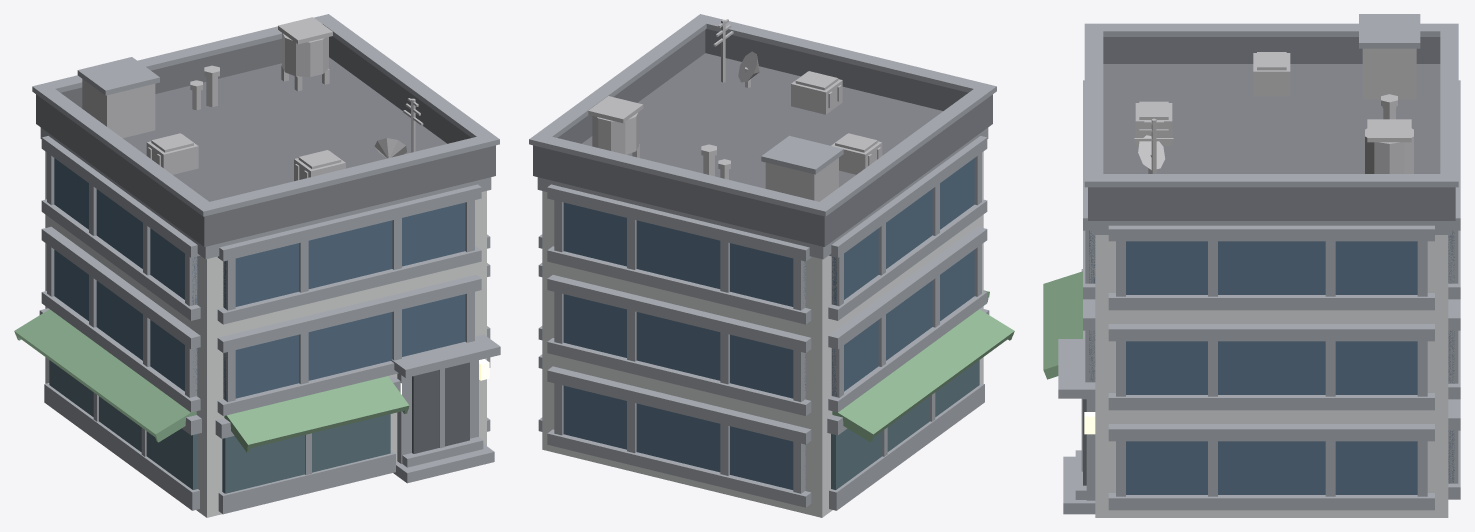
Rendered from bld_2_1.glb.
3 views of the same model, side by side, from view 1: azimuth 30°, elevation 25°; view 2: azimuth 150°, elevation 25°; view 3: azimuth 270°, elevation 25° (orthographic). The views are drawn at different scales.
Visible parts, largest first — view 1: trim, rf, win, awn, w, shop, ac, door; view 2: trim, win, rf, w, ac, awn, shop; view 3: trim, rf, win, w, ac, awn.
Boxes of the visible parts, x1,y1,x2,y2 form: trim: (32, 14, 500, 514); rf: (36, 36, 495, 246); win: (54, 158, 465, 400); awn: (14, 309, 409, 452); w: (45, 151, 486, 517); shop: (49, 360, 390, 493); ac: (82, 17, 423, 181); door: (412, 362, 469, 453); trim: (529, 14, 996, 510); win: (563, 158, 974, 489); rf: (533, 29, 992, 246); w: (542, 151, 983, 517); ac: (588, 19, 882, 201); awn: (832, 290, 1014, 442); shop: (831, 360, 979, 489); trim: (1058, 14, 1460, 514); rf: (1088, 37, 1455, 220); win: (1089, 231, 1454, 494); w: (1095, 235, 1448, 517); ac: (1134, 48, 1416, 173); awn: (1043, 271, 1082, 379).
Bounding box in the file's own units: 3.4 × 3.36 × 3.4.
